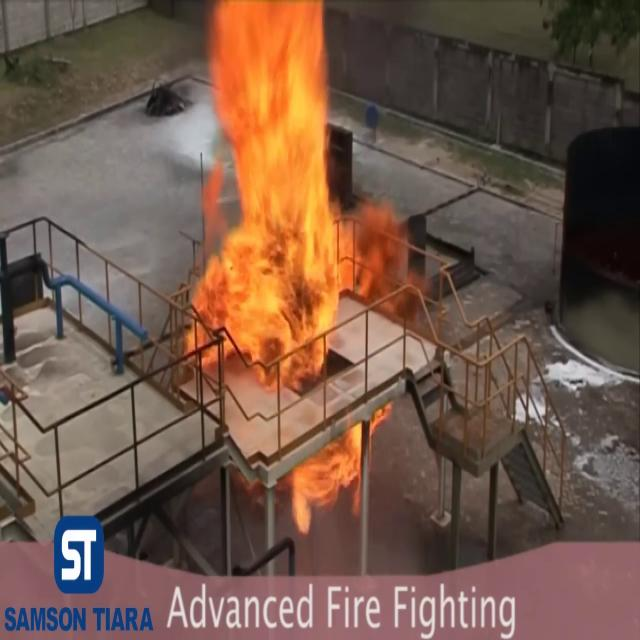Fire: (174, 1, 392, 385)
